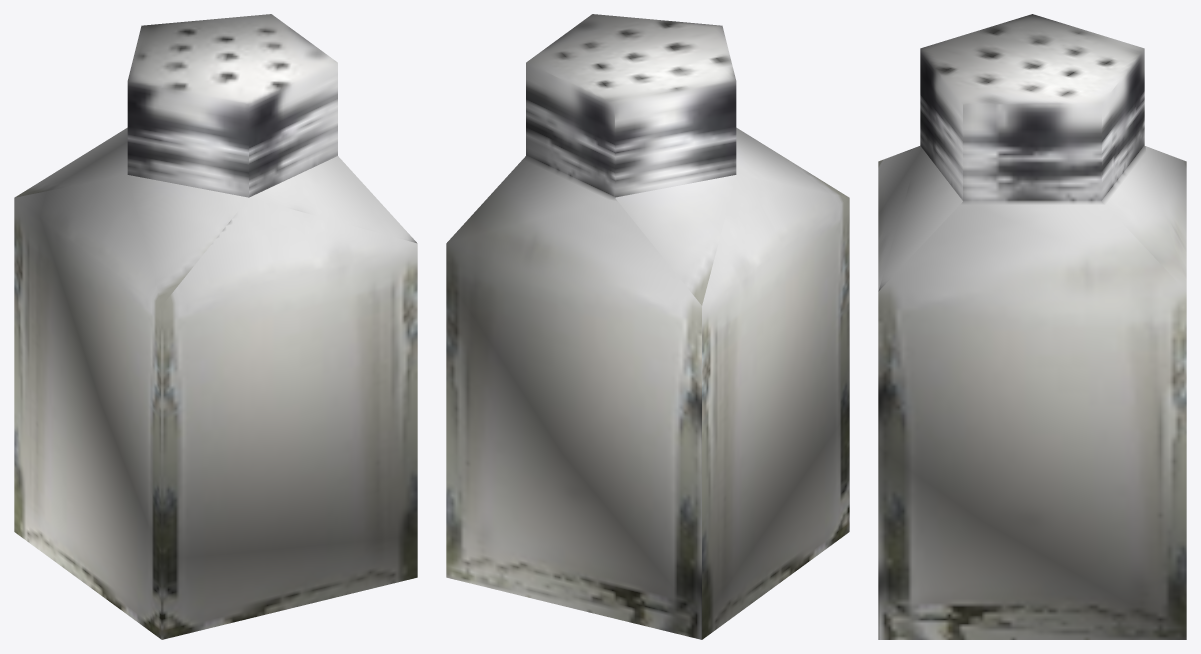
Rendered from Salt.dae.
3 renders of one model, left to right at view 1: azimuth 30°, elevation 25°; view 2: azimuth 150°, elevation 25°; view 3: azimuth 270°, elevation 25°, orthographic. The views are drawn at different scales.
Visible parts, largest first — view 1: Salt; view 2: Salt; view 3: Salt.
Boxes of the visible parts, x1,y1,x2,y2 form: Salt: [14, 14, 417, 639]; Salt: [446, 14, 849, 639]; Salt: [878, 14, 1186, 639].
Bounding box in the file's own units: 0.0652 × 0.0652 × 0.1204.
Materials: 1 (1 with a texture image).
